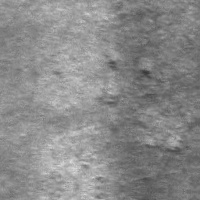rolled-in_scale: (100, 56, 198, 160)
